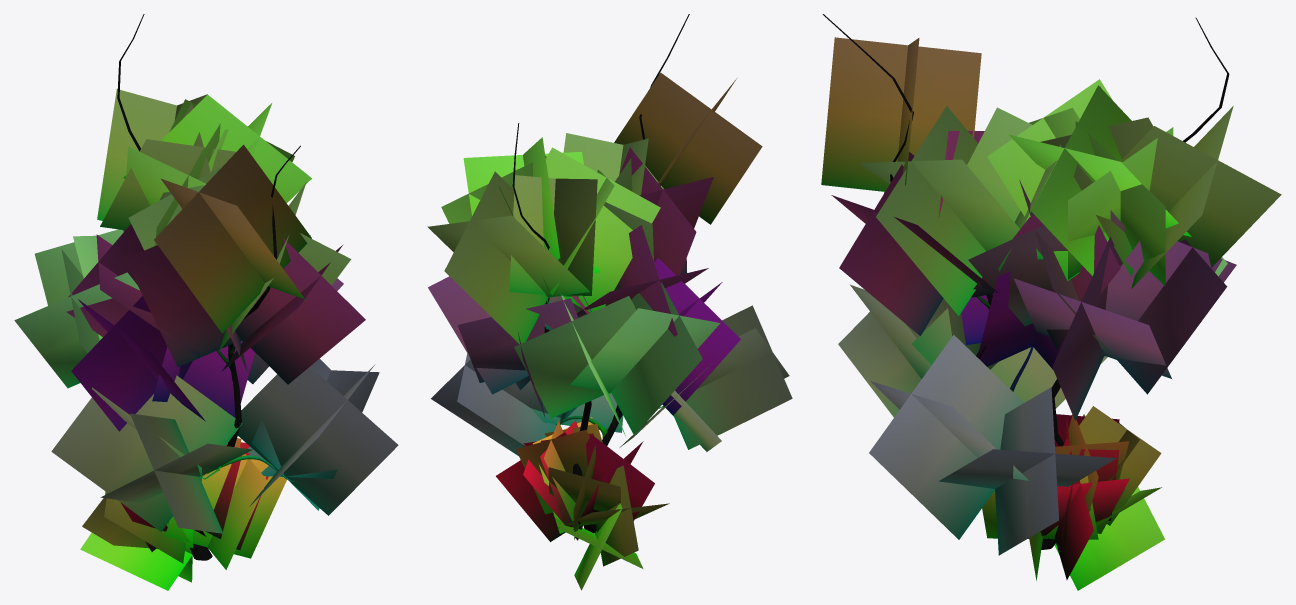
File: URP_P12_Tree_5_LOD_1.fbx
The picture shows the model from 3 angles, left to right: view 1: azimuth 30°, elevation 25°; view 2: azimuth 150°, elevation 25°; view 3: azimuth 270°, elevation 25°; orthographic projection. The views are drawn at different scales.
Parts seen in each view (by area): view 1: Tree_5_LOD_1; view 2: Tree_5_LOD_1; view 3: Tree_5_LOD_1.
Part boxes in pixels (box(x1,y1,x2,y2)): Tree_5_LOD_1: box(14, 14, 398, 590); Tree_5_LOD_1: box(427, 14, 792, 590); Tree_5_LOD_1: box(821, 14, 1281, 590).
Bounding box in the file's own units: 187 × 287 × 208.
